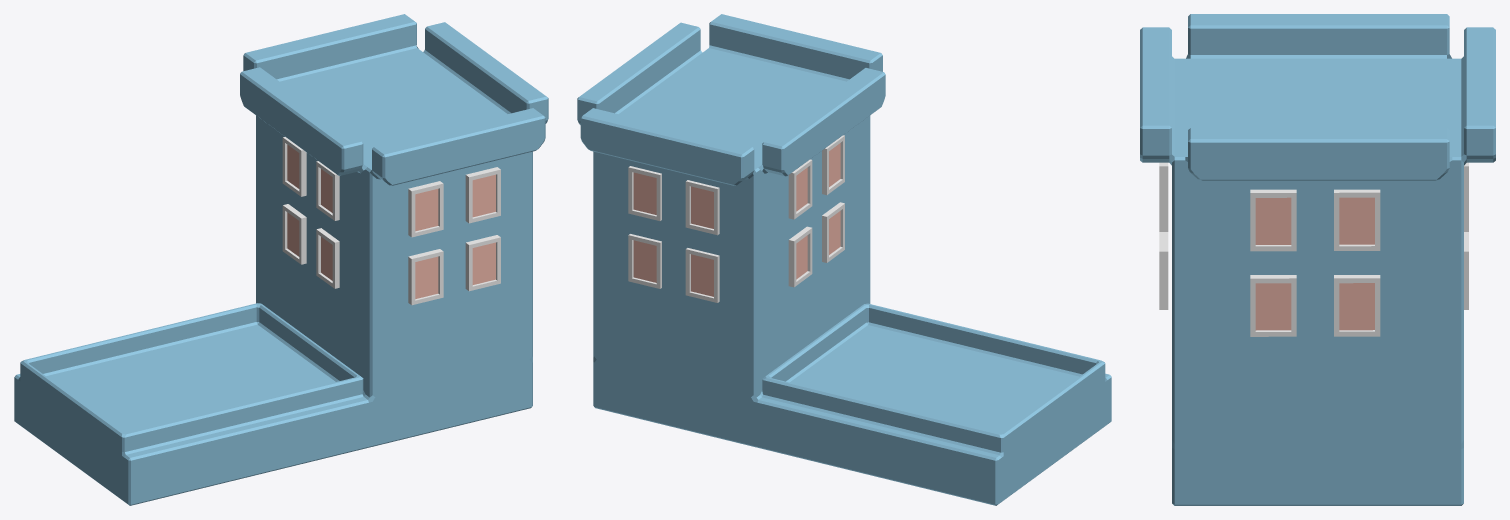
The model's file is Building.fbx.
3 views of the same model, side by side, from view 1: azimuth 30°, elevation 25°; view 2: azimuth 150°, elevation 25°; view 3: azimuth 270°, elevation 25° (orthographic). The views are drawn at different scales.
Visible parts, largest first — view 1: Building1; view 2: Building1; view 3: Building1.
Boxes of the visible parts, x1,y1,x2,y2 form: Building1: (14, 14, 548, 505); Building1: (577, 14, 1111, 505); Building1: (1140, 14, 1495, 505).
Bounding box in the file's own units: 7775 × 5253 × 4454.
